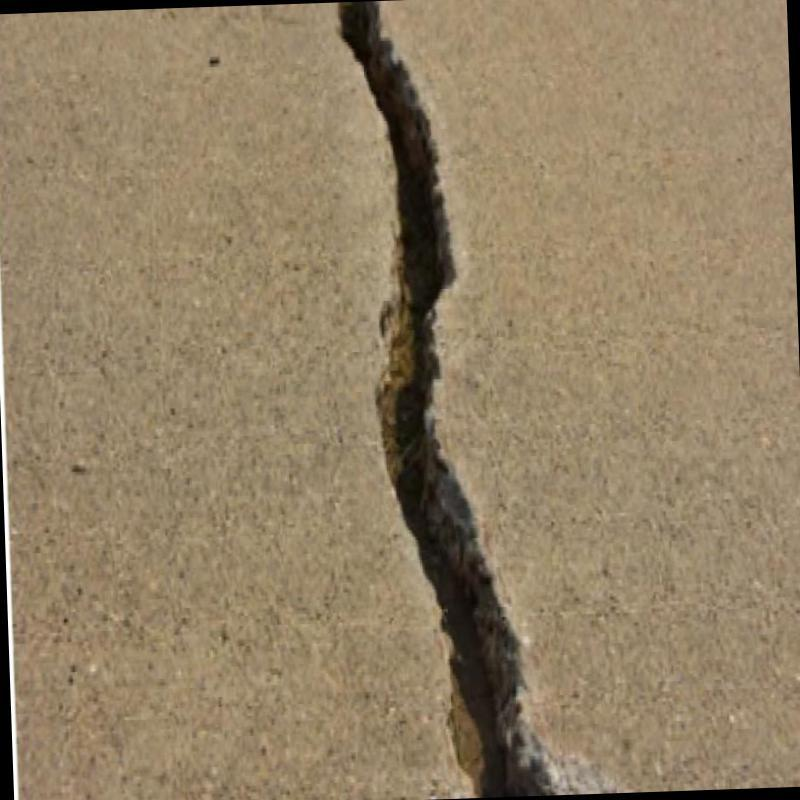pothole: (339, 1, 615, 796)
